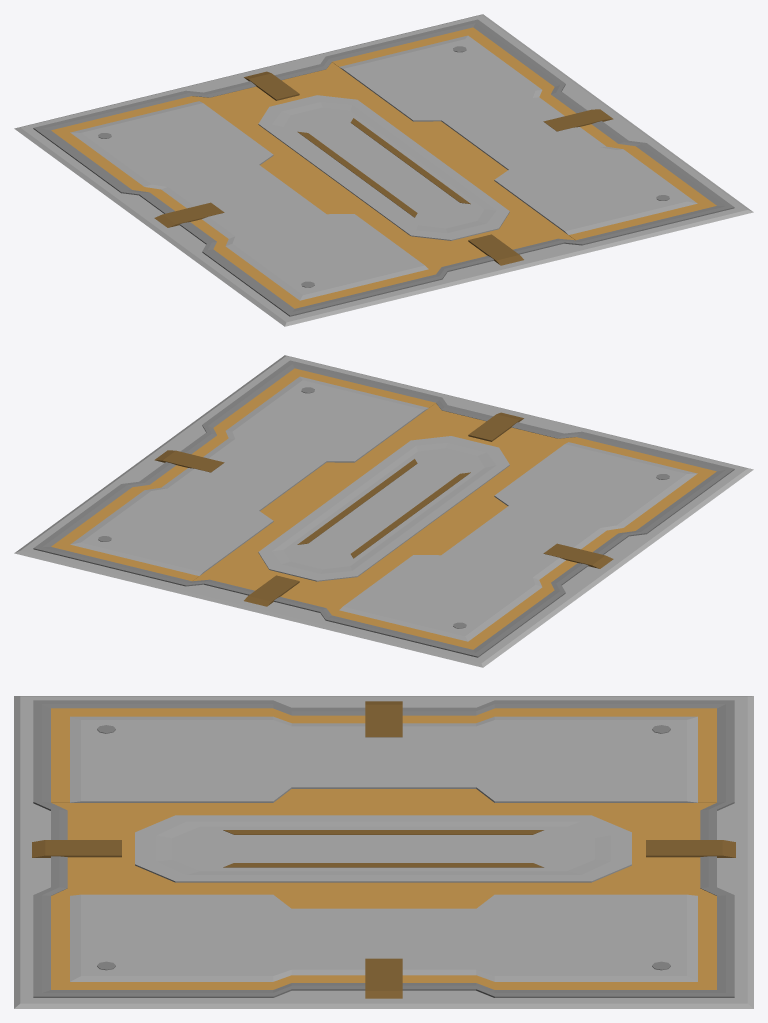
The model's file is FloorVariant2.fbx.
The picture shows the model from 3 angles, top to bottom: view 1: azimuth 30°, elevation 25°; view 2: azimuth 150°, elevation 25°; view 3: azimuth 270°, elevation 25°; orthographic projection. The views are drawn at different scales.
Visible parts, largest first — view 1: FloorTile_Basic2; view 2: FloorTile_Basic2; view 3: FloorTile_Basic2.
Boxes of the visible parts, <box> form: FloorTile_Basic2: <box>14,14,753,326</box>; FloorTile_Basic2: <box>14,355,753,667</box>; FloorTile_Basic2: <box>14,696,753,1008</box>.
Size of the model in its own units: 2 by 0.0152 by 2.
